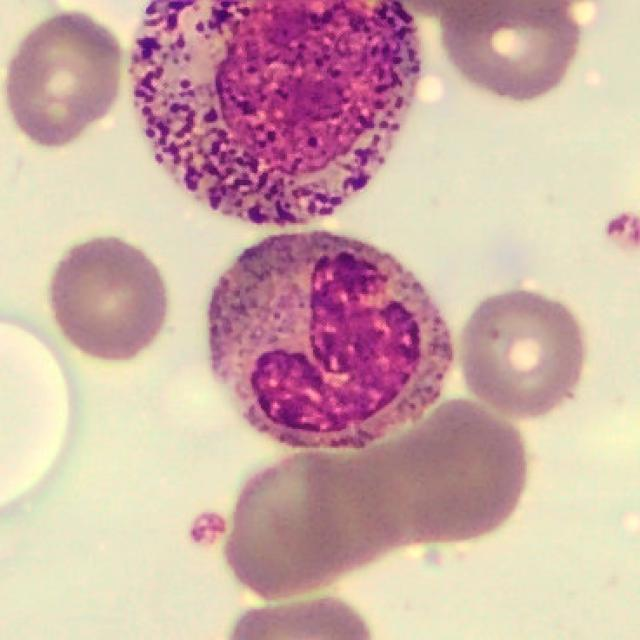Neutrofilo segmentado: (209, 234, 454, 453)
